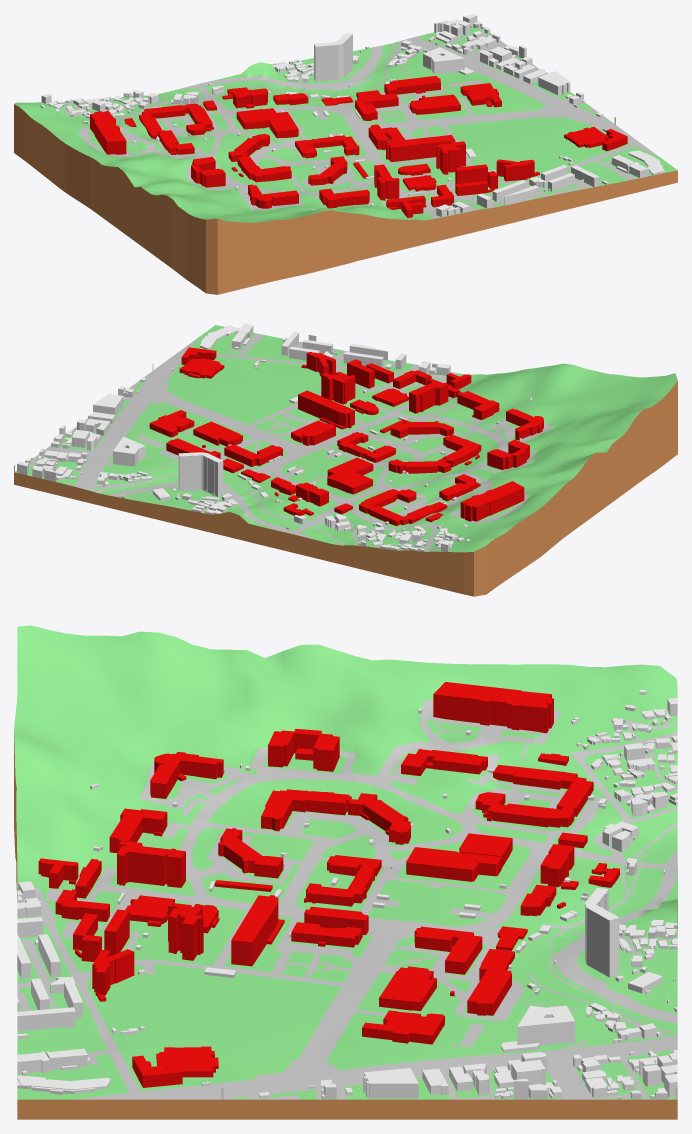
3 renders of one model, top to bottom at view 1: azimuth 30°, elevation 25°; view 2: azimuth 150°, elevation 25°; view 3: azimuth 270°, elevation 25°, orthographic. The views are drawn at different scales.
Visible parts, largest first — view 1: Mesh2 Group1 Model, Mesh1 Group2 Group1 Model, Mesh43 G_019________101_ Model, Mesh358 G_003__________3 Model, Mesh294 G_008__________ Model, Mesh422 Group3 Model, Mesh125 G_003__________ Model, Mesh238 G_007___________ Model, Mesh333 G_012______ Model, Mesh386 G_007____________1 Model, Mesh113 G_004_________ Model, Mesh336 G_003______70_____ Model (+17 smaller); view 2: Mesh2 Group1 Model, Mesh1 Group2 Group1 Model, Mesh43 G_019________101_ Model, Mesh358 G_003__________3 Model, Mesh422 Group3 Model, Mesh294 G_008__________ Model, Mesh391 G_010_________ Model, Mesh333 G_012______ Model, Mesh125 G_003__________ Model, Mesh386 G_007____________1 Model, Mesh318 G_004______________1 Model, Mesh124 G_004___________ Model (+19 smaller); view 3: Mesh2 Group1 Model, Mesh1 Group2 Group1 Model, Mesh422 Group3 Model, Mesh358 G_003__________3 Model, Mesh391 G_010_________ Model, Mesh43 G_019________101_ Model, Mesh152 G_004___________1 Model, Mesh125 G_003__________ Model, Mesh113 G_004_________ Model, Mesh386 G_007____________1 Model, Mesh294 G_008__________ Model, Mesh238 G_007___________ Model (+25 smaller).
Part boxes in pixels (bbox=[...]): Mesh2 Group1 Model: bbox=[14, 26, 677, 222]; Mesh1 Group2 Group1 Model: bbox=[14, 104, 677, 294]; Mesh43 G_019________101_ Model: bbox=[314, 33, 352, 81]; Mesh358 G_003__________3 Model: bbox=[139, 103, 212, 139]; Mesh294 G_008__________ Model: bbox=[386, 135, 455, 161]; Mesh422 Group3 Model: bbox=[90, 111, 126, 154]; Mesh125 G_003__________ Model: bbox=[295, 135, 359, 158]; Mesh238 G_007___________ Model: bbox=[423, 47, 464, 73]; Mesh333 G_012______ Model: bbox=[436, 141, 465, 174]; Mesh386 G_007____________1 Model: bbox=[191, 156, 225, 187]; Mesh113 G_004_________ Model: bbox=[237, 156, 291, 182]; Mesh336 G_003______70_____ Model: bbox=[409, 94, 460, 114]; Mesh2 Group1 Model: bbox=[15, 325, 677, 552]; Mesh1 Group2 Group1 Model: bbox=[14, 381, 677, 596]; Mesh43 G_019________101_ Model: bbox=[178, 452, 223, 496]; Mesh358 G_003__________3 Model: bbox=[359, 489, 447, 526]; Mesh422 Group3 Model: bbox=[460, 481, 524, 521]; Mesh294 G_008__________ Model: bbox=[298, 390, 354, 428]; Mesh391 G_010_________ Model: bbox=[409, 379, 448, 413]; Mesh333 G_012______ Model: bbox=[321, 371, 355, 404]; Mesh125 G_003__________ Model: bbox=[337, 432, 395, 462]; Mesh386 G_007____________1 Model: bbox=[487, 439, 529, 469]; Mesh318 G_004______________1 Model: bbox=[224, 444, 282, 466]; Mesh124 G_004___________ Model: bbox=[390, 421, 453, 438]; Mesh2 Group1 Model: bbox=[14, 625, 677, 1099]; Mesh1 Group2 Group1 Model: bbox=[14, 735, 677, 1119]; Mesh422 Group3 Model: bbox=[433, 682, 553, 733]; Mesh358 G_003__________3 Model: bbox=[475, 764, 593, 827]; Mesh391 G_010_________ Model: bbox=[117, 841, 185, 887]; Mesh43 G_019________101_ Model: bbox=[585, 887, 619, 977]; Mesh152 G_004___________1 Model: bbox=[406, 847, 501, 881]; Mesh125 G_003__________ Model: bbox=[306, 855, 381, 906]; Mesh113 G_004_________ Model: bbox=[261, 789, 351, 831]; Mesh386 G_007____________1 Model: bbox=[268, 728, 339, 771]; Mesh294 G_008__________ Model: bbox=[231, 895, 278, 966]; Mesh238 G_007___________ Model: bbox=[517, 1005, 575, 1045].
Size of the model in its own units: 803555 by 125000 by 601147.
